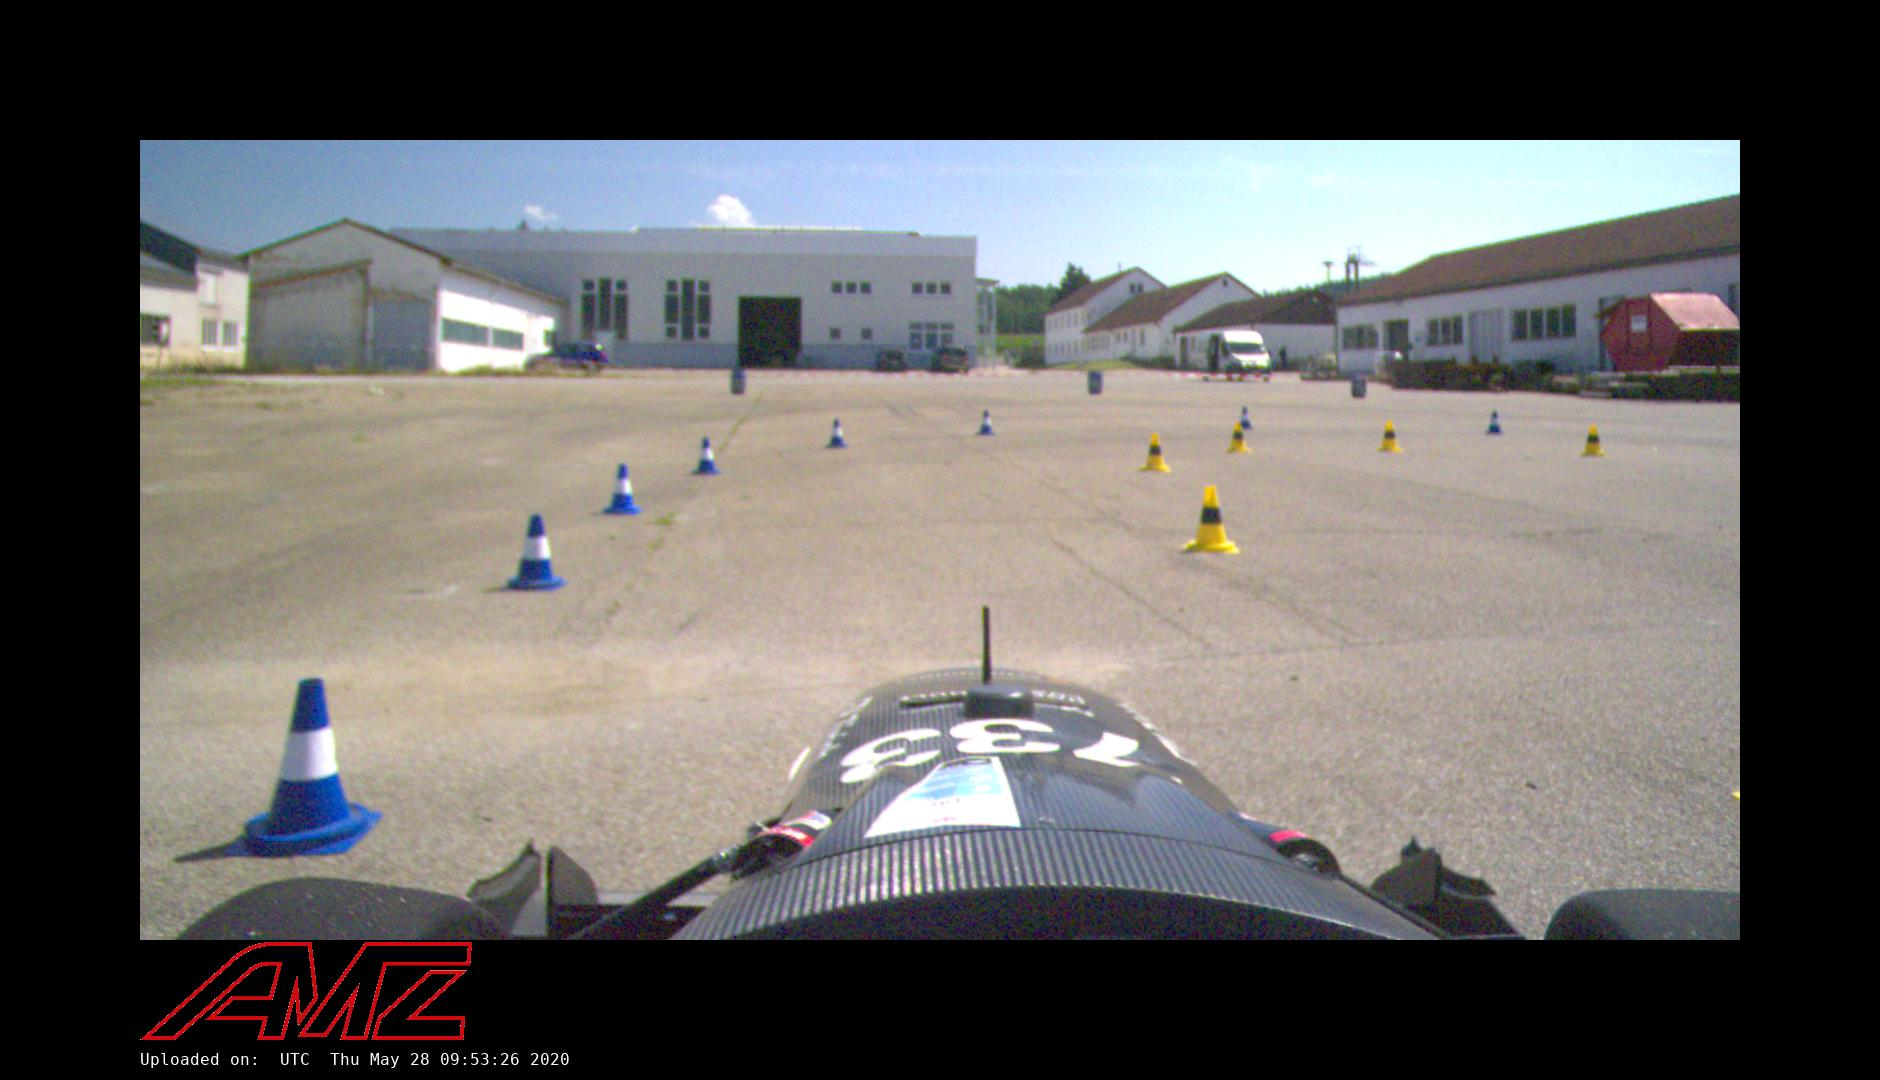blue_cone: (228, 675, 383, 858), (504, 514, 566, 591), (602, 463, 643, 515), (691, 436, 722, 476), (826, 417, 849, 449), (975, 410, 996, 436), (1486, 410, 1506, 435), (1237, 406, 1253, 430)
yellow_cone: (1181, 484, 1240, 553), (1140, 434, 1171, 472), (1378, 422, 1404, 453), (1226, 422, 1251, 453), (1581, 426, 1605, 457)
